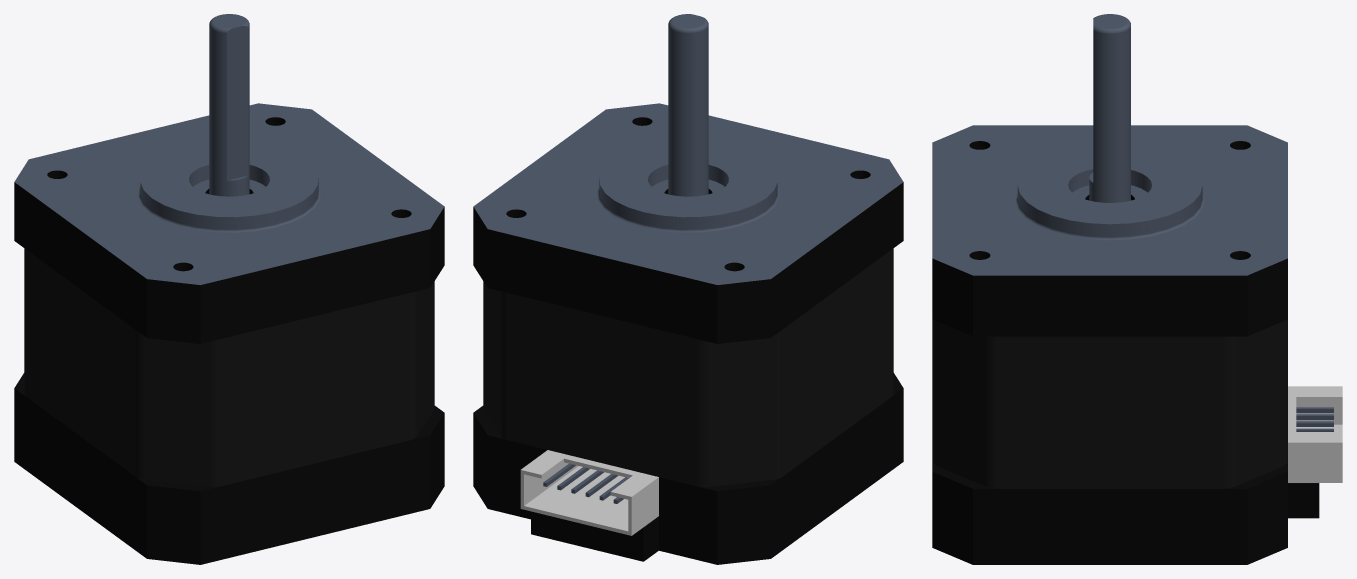
Rendered from stepper_nema17.obj.
3 views of the same model, side by side, from view 1: azimuth 30°, elevation 25°; view 2: azimuth 150°, elevation 25°; view 3: azimuth 270°, elevation 25° (orthographic). The views are drawn at different scales.
Visible parts, largest first — view 1: Part2^NEMA17_Model001; view 2: Part2^NEMA17_Model001; view 3: Part2^NEMA17_Model001.
Boxes of the visible parts, bbox=[...] form: Part2^NEMA17_Model001: bbox=[14, 14, 444, 564]; Part2^NEMA17_Model001: bbox=[473, 14, 903, 564]; Part2^NEMA17_Model001: bbox=[932, 14, 1342, 564].
Bounding box in the file's own units: 0.0423 × 0.0615 × 0.0488.
